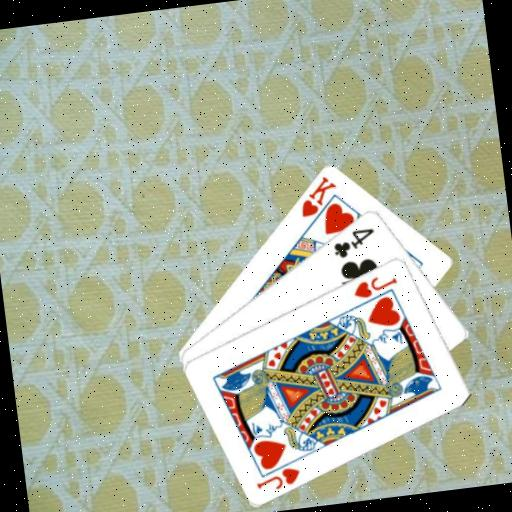4C: (328, 224, 379, 261)
JH: (349, 270, 401, 301), (252, 463, 303, 494)
KH: (294, 171, 341, 219)
